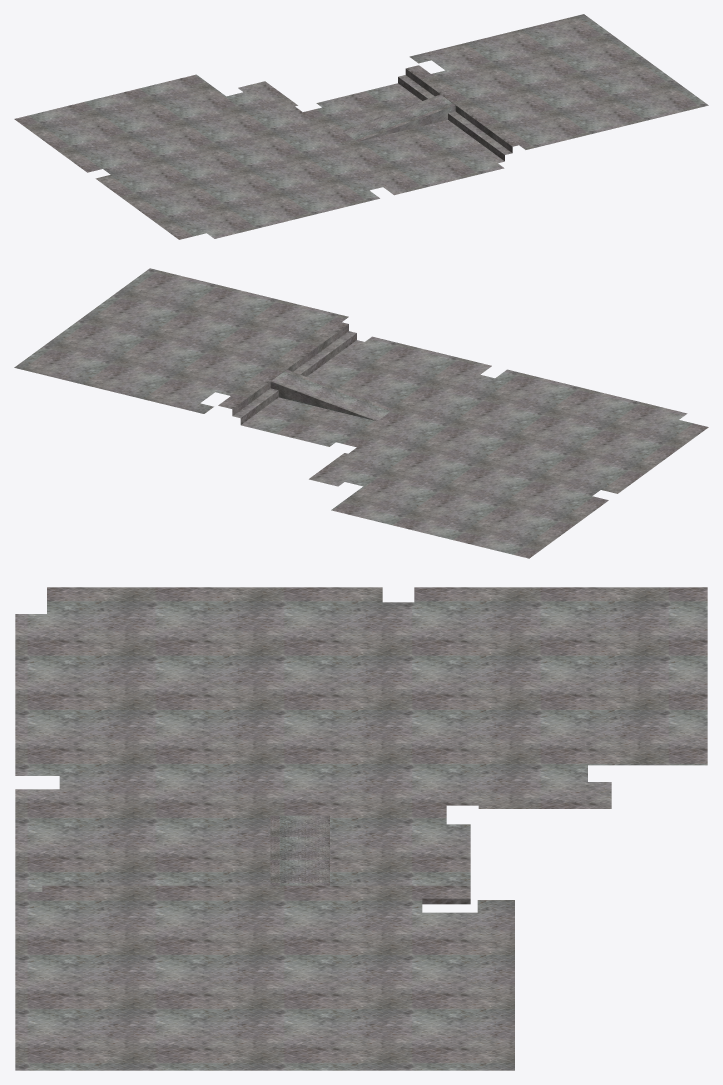
File: Suelo_Bajo.fbx
3 views of the same model, one above another, from view 1: azimuth 30°, elevation 25°; view 2: azimuth 150°, elevation 25°; view 3: azimuth 270°, elevation 25° (orthographic). The views are drawn at different scales.
Visible parts, largest first — view 1: Suelo Bajo.001, Rampa.001; view 2: Suelo Bajo.001, Rampa.001; view 3: Suelo Bajo.001, Rampa.001.
Part boxes in pixels (x1,y1,x2,y2): Suelo Bajo.001: [14, 14, 708, 239]; Rampa.001: [343, 94, 455, 141]; Suelo Bajo.001: [14, 268, 708, 558]; Rampa.001: [270, 369, 392, 421]; Suelo Bajo.001: [15, 587, 707, 1070]; Rampa.001: [270, 815, 329, 885].
Bounding box in the file's own units: 23242 × 673 × 13358.
